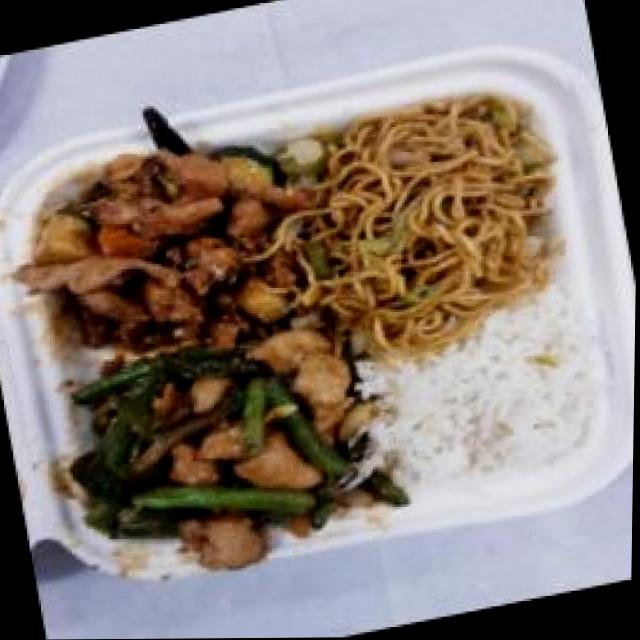Chow Mein: (268, 72, 589, 353)
Kung Pao Chicken: (11, 118, 327, 378)
String Bean Chicken Breast: (46, 303, 399, 588)
White Steamed Rice: (359, 301, 606, 503)
